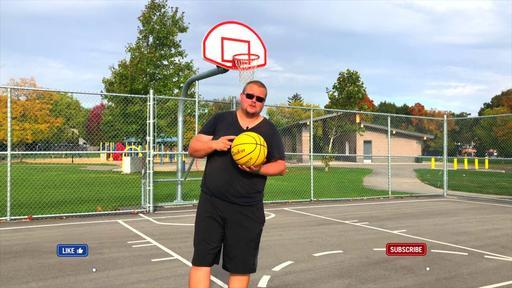ball: (231, 132, 268, 168)
human: (188, 81, 286, 288)
rim: (232, 54, 260, 82)
